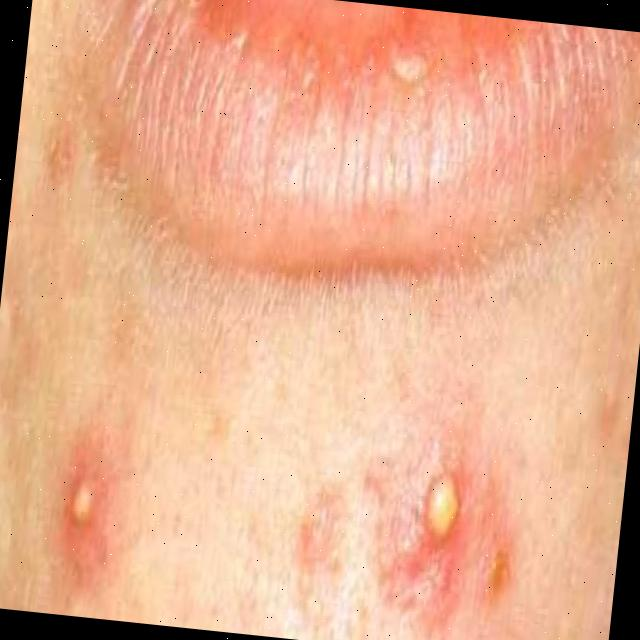kan emici bocekler: (402, 434, 483, 564), (51, 440, 117, 553)
